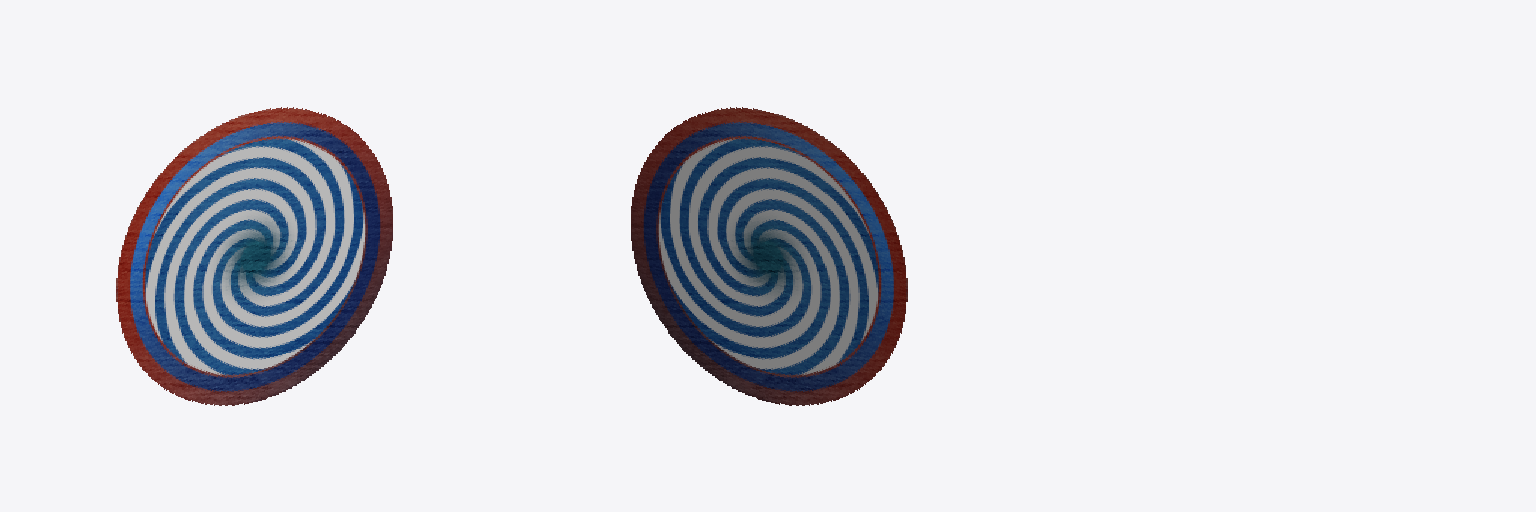
The picture shows the model from 3 angles: view 1: azimuth 30°, elevation 25°; view 2: azimuth 150°, elevation 25°; view 3: azimuth 270°, elevation 25°; orthographic projection.
Visible parts, largest first — view 1: dream_3:Mesh; view 2: dream_3:Mesh; view 3: none.
Part boxes in pixels (left/top/right/bottom): dream_3:Mesh: left=116, top=107, right=392, bottom=405; dream_3:Mesh: left=631, top=107, right=907, bottom=405.
Size of the model in its own units: 186 by 186 by 0.
1 materials, 1 textured.